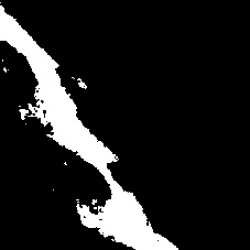crack: (3, 8, 179, 248)
